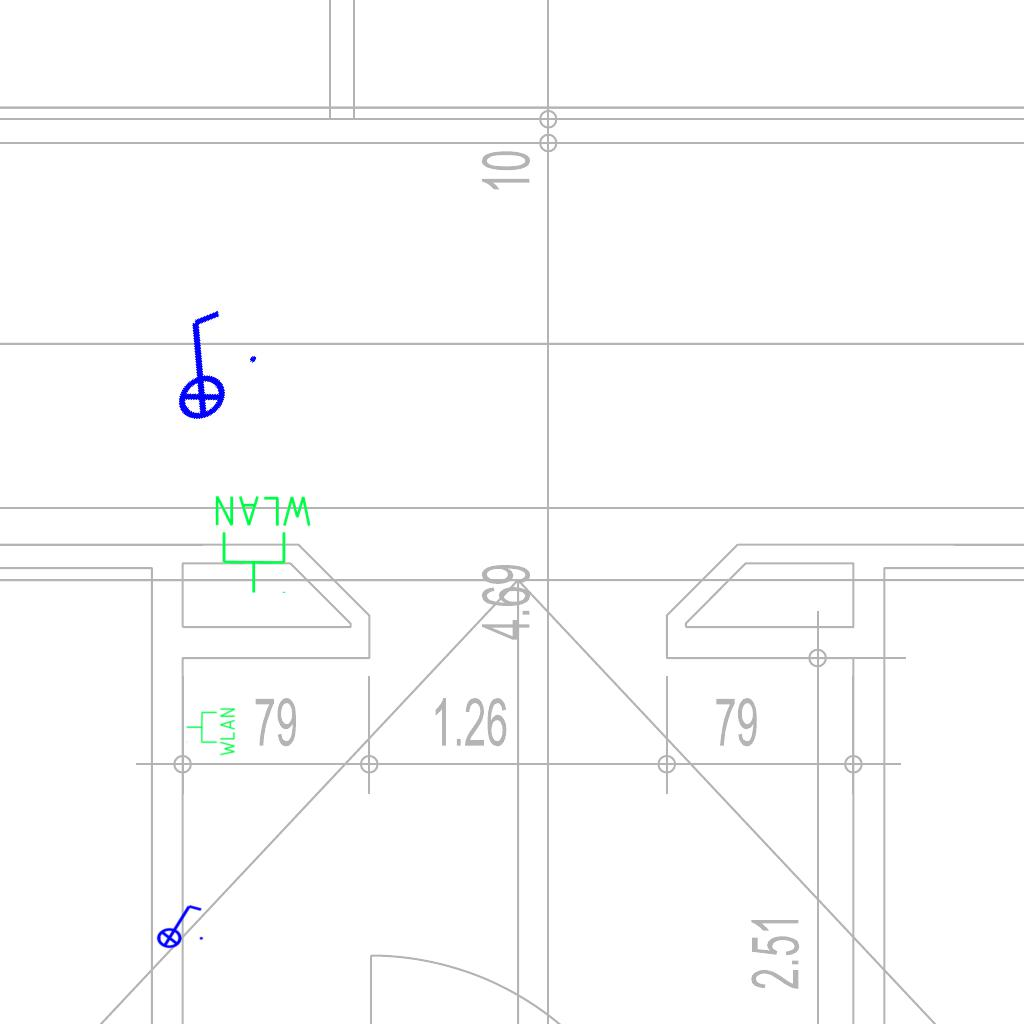Ausschalter_beleuchtet: (126, 293, 274, 439), (150, 901, 206, 949)
WLAN: (211, 492, 316, 596), (185, 706, 237, 758)
